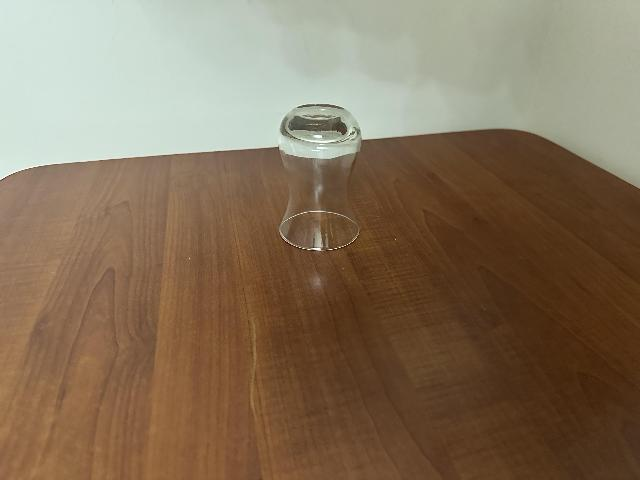Cam: (273, 98, 368, 254)
